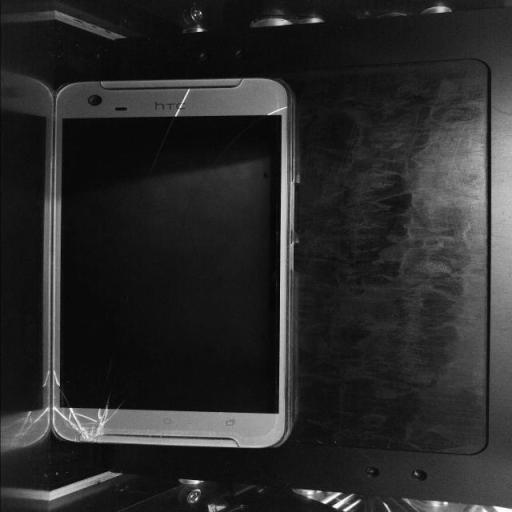phone: (47, 81, 304, 456)
